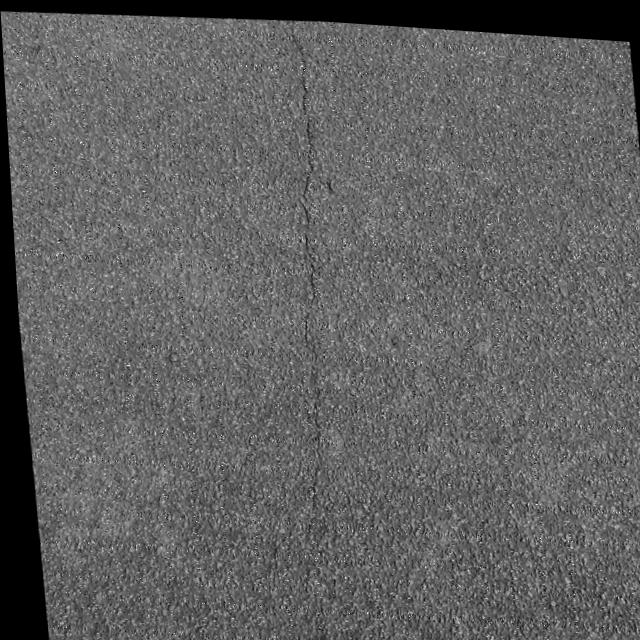Crack: (256, 13, 356, 555)
